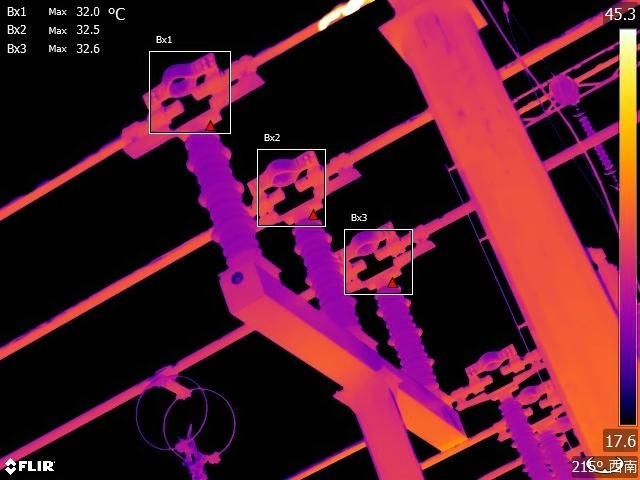insulator: (574, 103, 618, 181)
post insulator: (186, 117, 266, 269), (289, 217, 368, 343), (374, 280, 440, 382), (500, 396, 554, 480), (539, 422, 589, 480)
